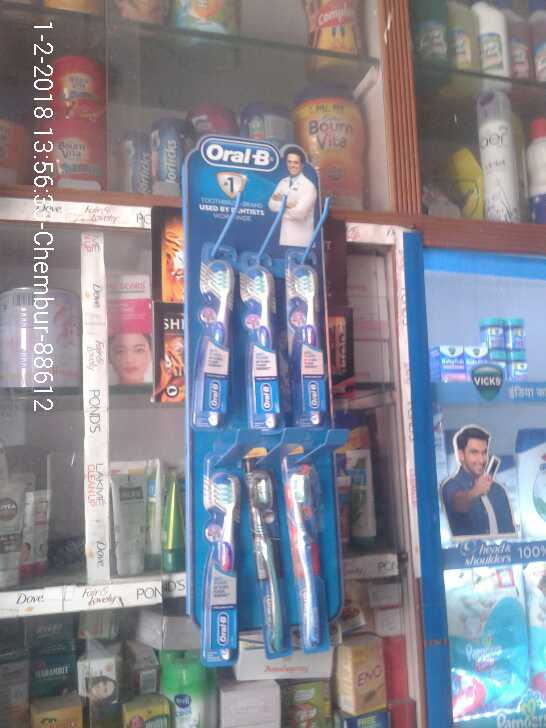pharmacy: (198, 477, 241, 667), (413, 317, 533, 382), (240, 255, 283, 433), (289, 470, 328, 657), (279, 268, 323, 417), (248, 468, 280, 667), (199, 258, 236, 425)
